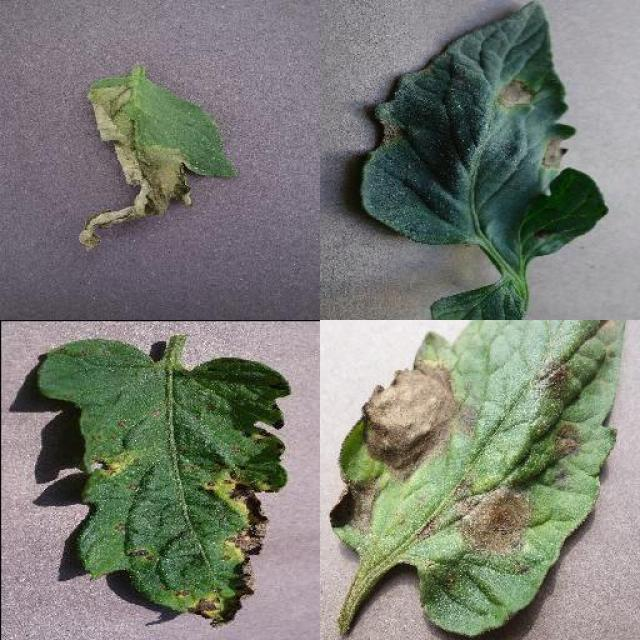Early Blight: (359, 0, 610, 262)
Late Blight: (330, 320, 628, 640), (78, 74, 238, 251)
Septoria: (34, 340, 285, 625)
